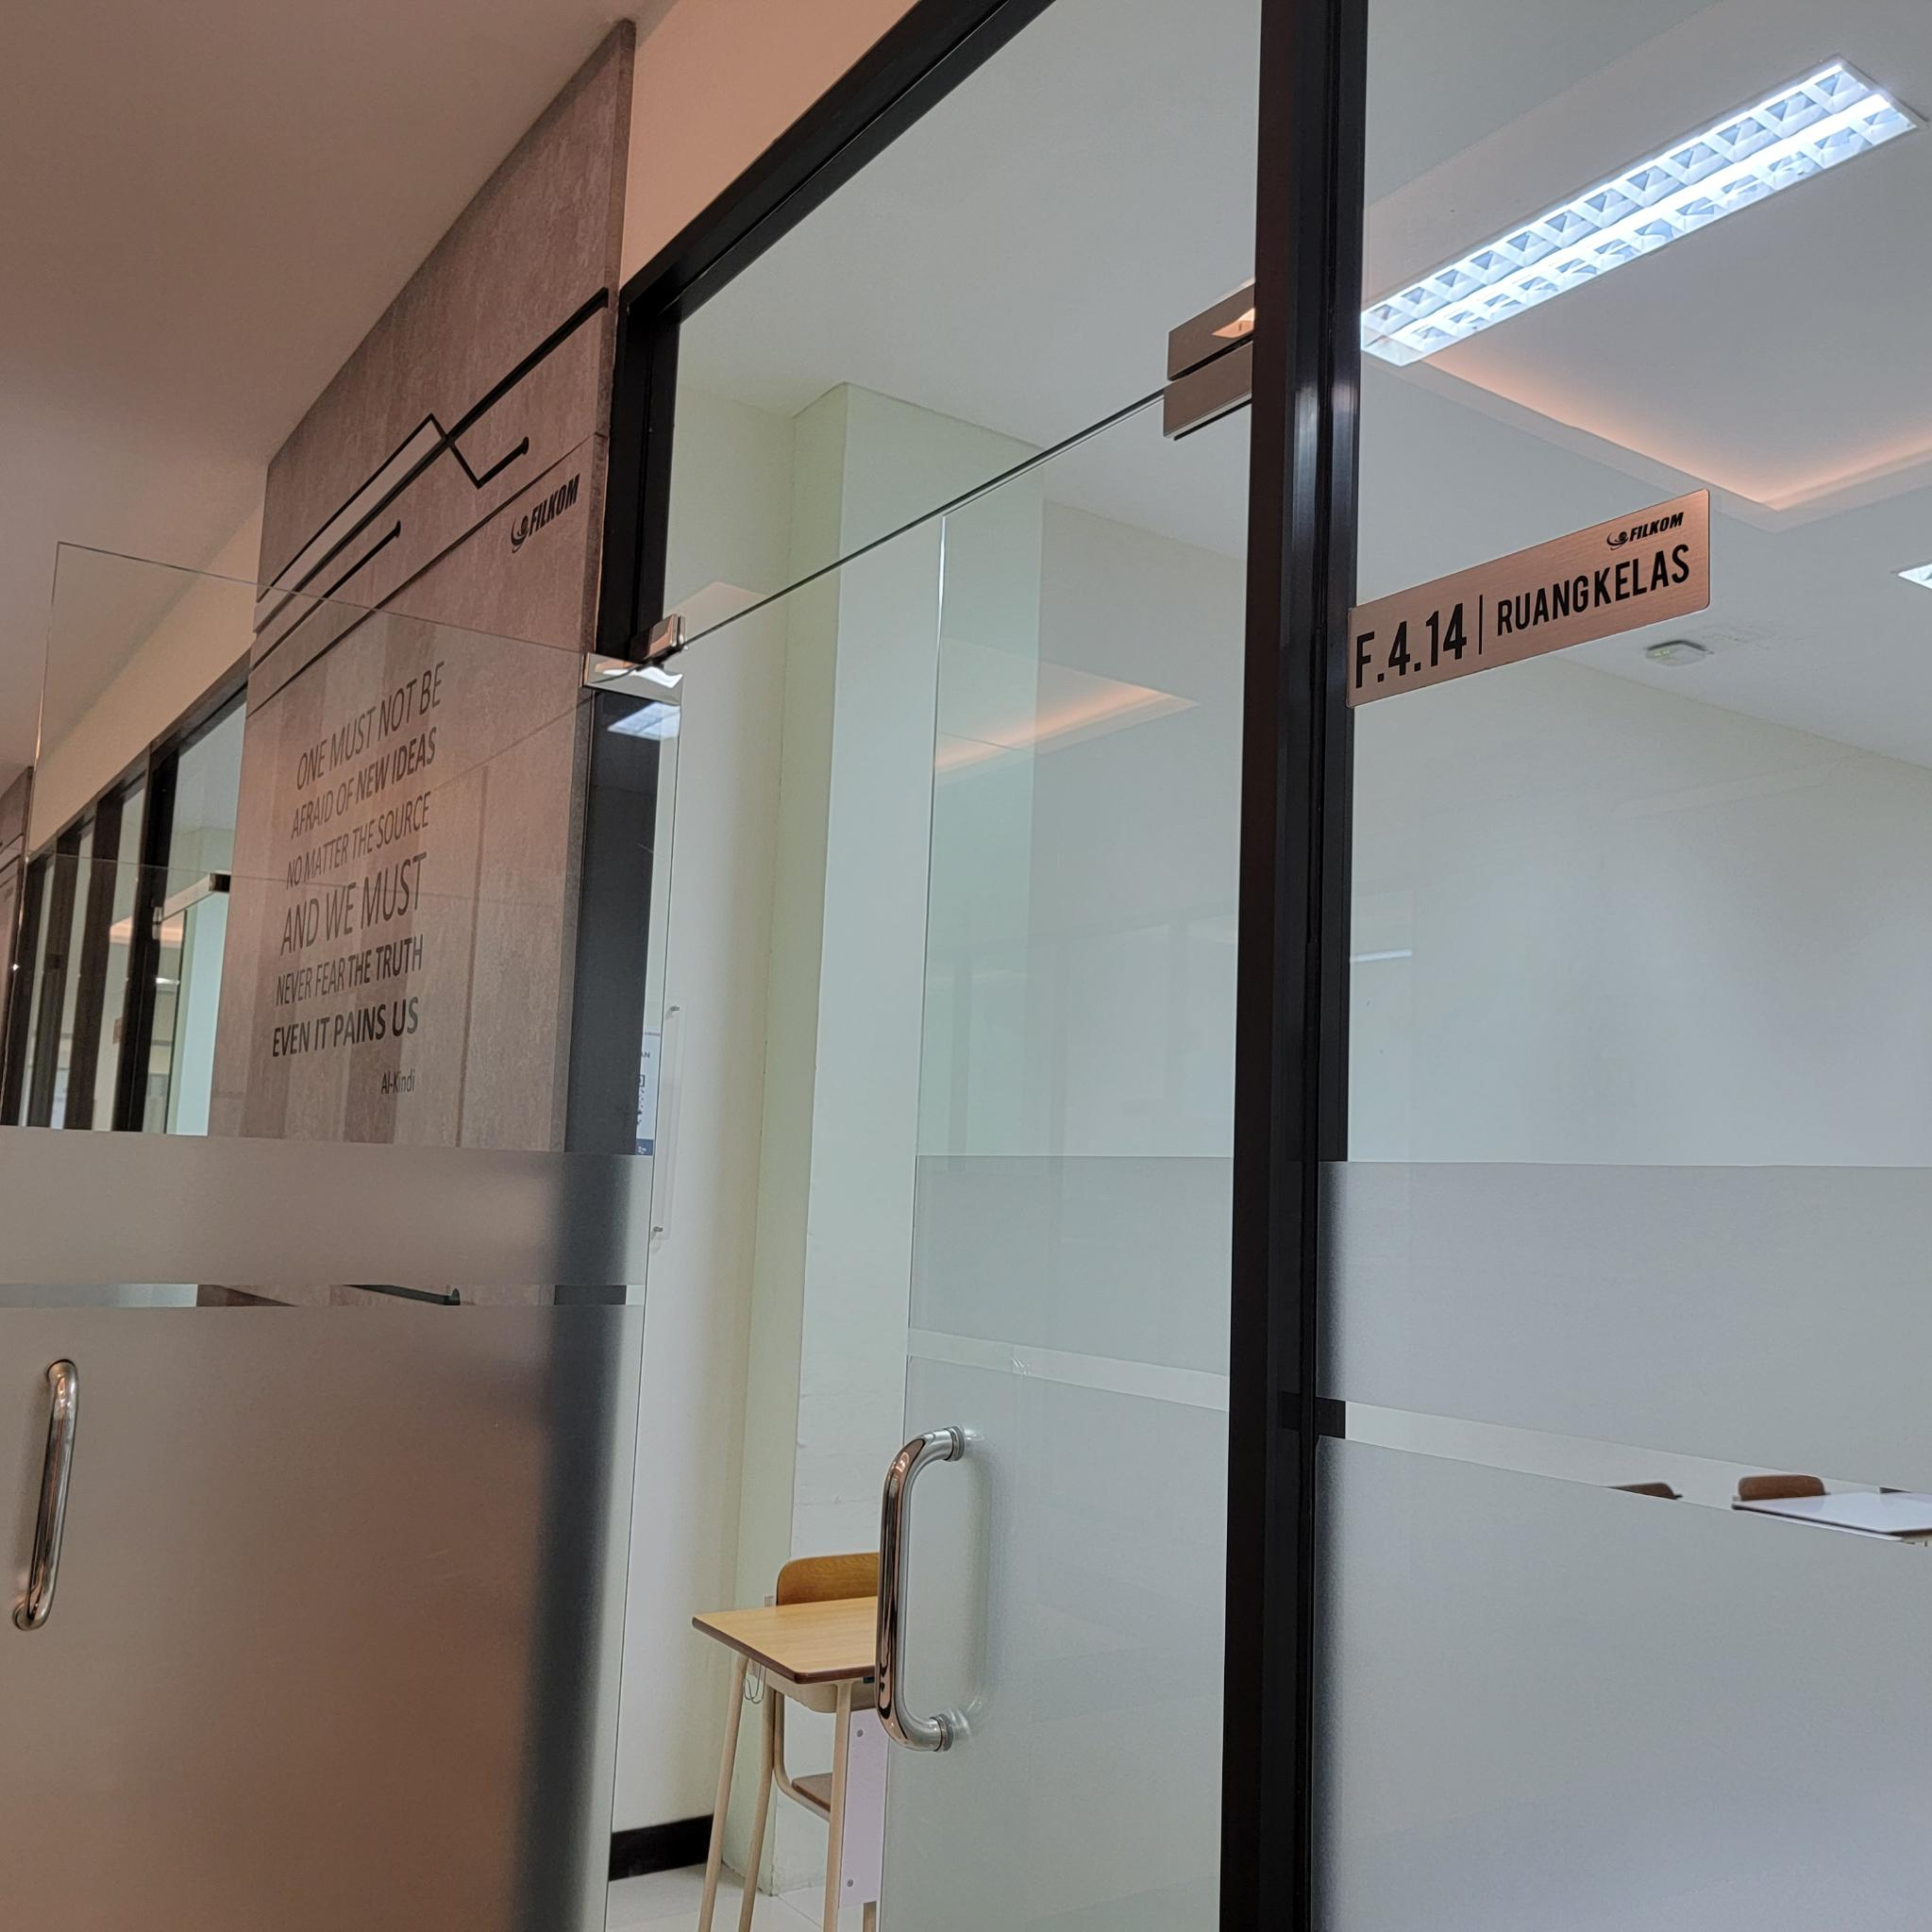plate: (1345, 485, 1713, 709)
